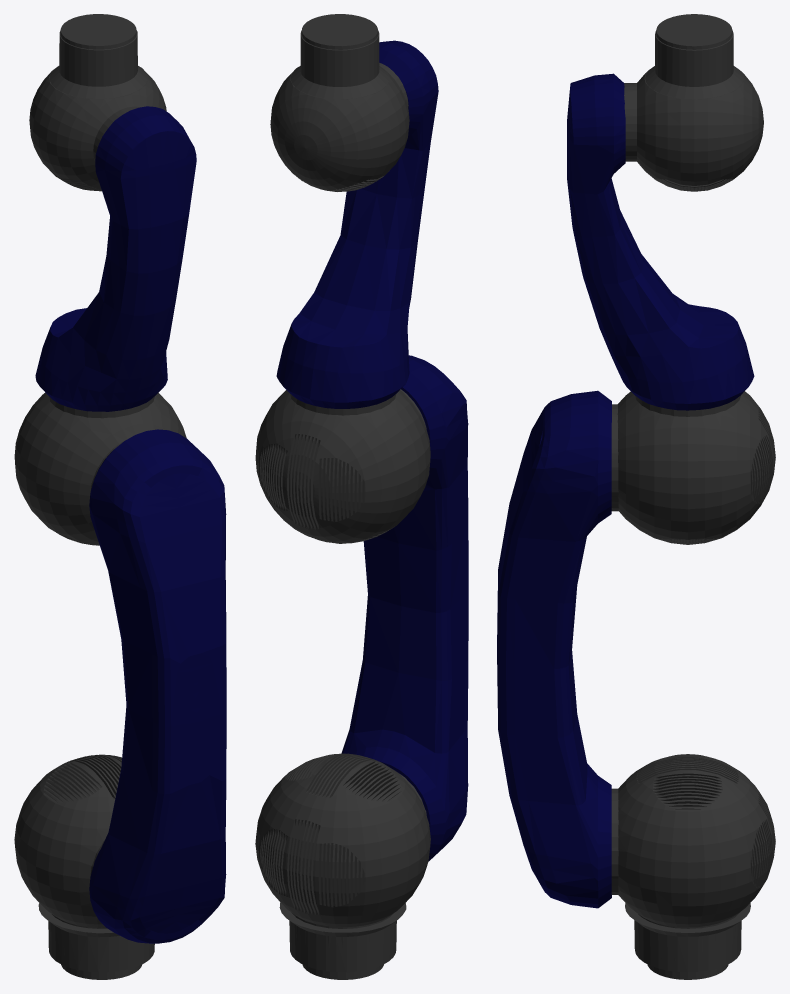
3 renders of one model, left to right at view 1: azimuth 30°, elevation 25°; view 2: azimuth 150°, elevation 25°; view 3: azimuth 270°, elevation 25°, orthographic.
Parts seen in each view (by area): view 1: arm_2_link, arm_4_link, arm_1_link, arm_3_link, arm_5_link, arm_6_link, arm_0_link; view 2: arm_2_link, arm_4_link, arm_1_link, arm_3_link, arm_5_link, arm_6_link, arm_0_link; view 3: arm_2_link, arm_4_link, arm_1_link, arm_3_link, arm_5_link, arm_6_link, arm_0_link.
Part boxes in pixels (x1=…): arm_2_link: x1=89, y1=429, x2=226, y2=943; arm_4_link: x1=35, y1=106, x2=196, y2=411; arm_1_link: x1=14, y1=754, x2=121, y2=958; arm_3_link: x1=14, y1=392, x2=186, y2=545; arm_5_link: x1=29, y1=66, x2=166, y2=191; arm_6_link: x1=49, y1=14, x2=147, y2=98; arm_0_link: x1=38, y1=903, x2=154, y2=979; arm_2_link: x1=341, y1=355, x2=468, y2=861; arm_4_link: x1=276, y1=40, x2=438, y2=408; arm_1_link: x1=255, y1=753, x2=430, y2=955; arm_3_link: x1=255, y1=389, x2=430, y2=543; arm_5_link: x1=270, y1=63, x2=409, y2=191; arm_6_link: x1=290, y1=14, x2=389, y2=99; arm_0_link: x1=279, y1=902, x2=406, y2=979; arm_2_link: x1=497, y1=390, x2=611, y2=908; arm_4_link: x1=567, y1=73, x2=754, y2=410; arm_1_link: x1=611, y1=754, x2=775, y2=961; arm_3_link: x1=611, y1=391, x2=775, y2=544; arm_5_link: x1=624, y1=67, x2=763, y2=191; arm_6_link: x1=645, y1=14, x2=743, y2=99; arm_0_link: x1=625, y1=903, x2=750, y2=979.
Bounding box in the file's own units: 0.1446 × 0.23 × 0.849.
